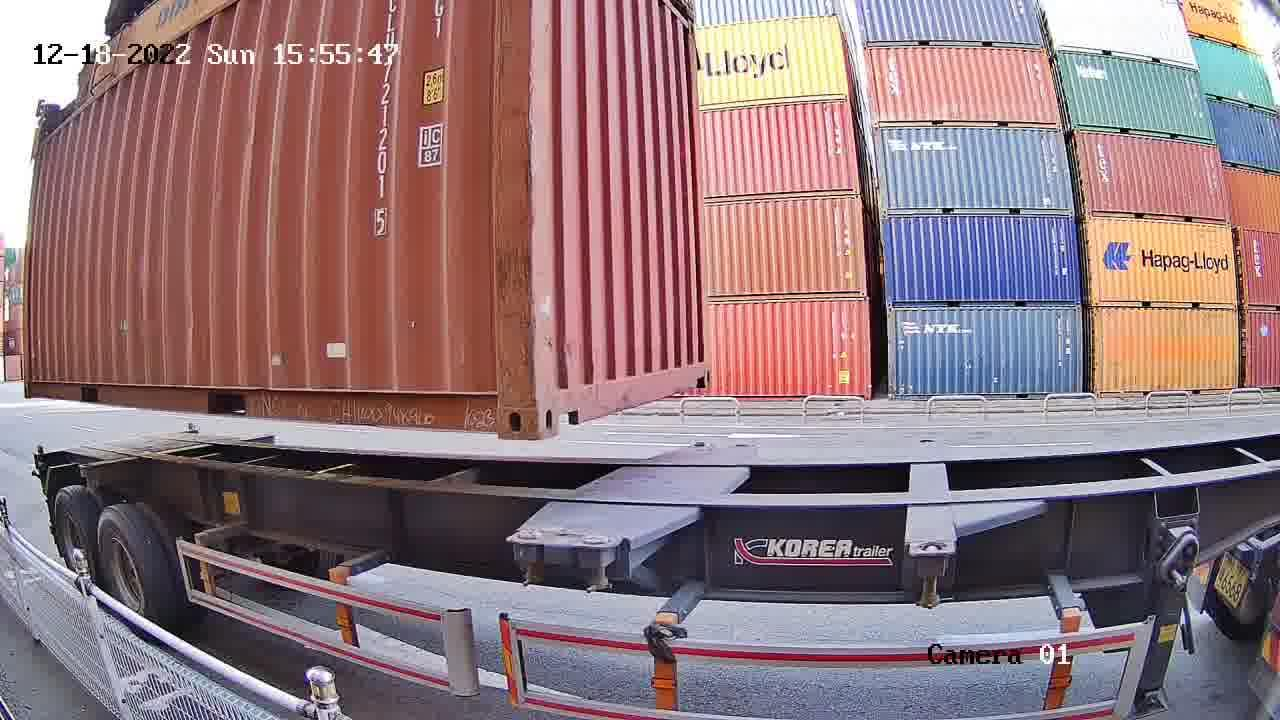Chassis: (508, 436, 716, 546), (576, 439, 759, 553)
Cone: (575, 532, 618, 597), (514, 522, 541, 587), (730, 435, 759, 451), (690, 435, 711, 447)
Hole_L: (537, 358, 594, 438)
Hole_R: (468, 370, 536, 442), (690, 343, 714, 388)
Tire: (97, 512, 153, 614), (55, 493, 97, 557)
